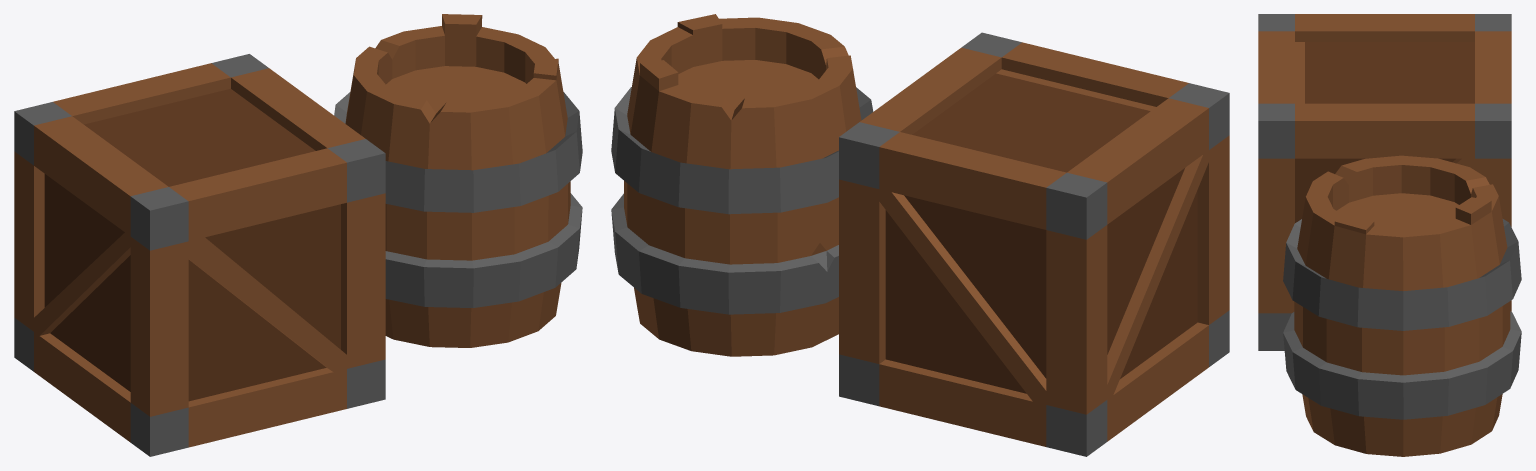
Rendered from fässer+kiste.fbx.
The picture shows the model from 3 angles, left to right: view 1: azimuth 30°, elevation 25°; view 2: azimuth 150°, elevation 25°; view 3: azimuth 270°, elevation 25°; orthographic projection. The views are drawn at different scales.
Parts seen in each view (by area): view 1: kiste, fässer; view 2: kiste, fässer; view 3: fässer, kiste.
Part boxes in pixels (x1,y1,x2,y2): kiste: (14, 54, 385, 456); fässer: (334, 14, 582, 347); kiste: (839, 32, 1229, 456); fässer: (611, 14, 873, 356); fässer: (1283, 155, 1521, 456); kiste: (1258, 14, 1511, 350).
Size of the model in its own units: 87.7 by 42.35 by 43.44.
